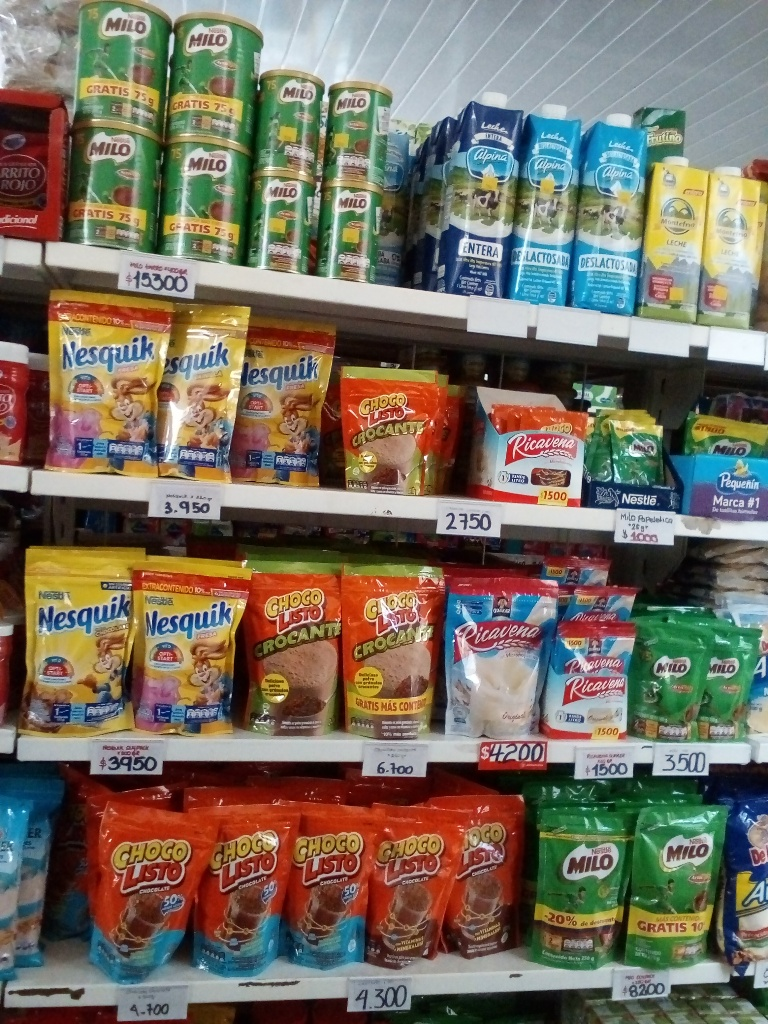COL0170102DYP10000: (340, 364, 434, 497)
COL0170102DYP25000: (243, 558, 345, 737)
COL0170103DYP20000: (369, 800, 457, 968)
COL0170104DYP20000: (97, 804, 199, 978)
COL0170203DYP10000: (632, 619, 703, 745)
COL0170203DYP25000: (537, 786, 632, 950)
COL0170203LAT20000: (256, 67, 321, 173)
COL0170203LAT40000: (164, 7, 260, 146)
COL0170303DYP20000: (18, 548, 138, 737)
COL0170305DYP20000: (165, 300, 243, 483)
